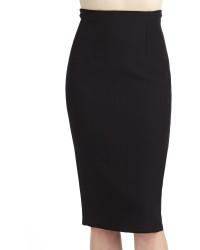F_tailored skirt: (60, 6, 183, 238)
